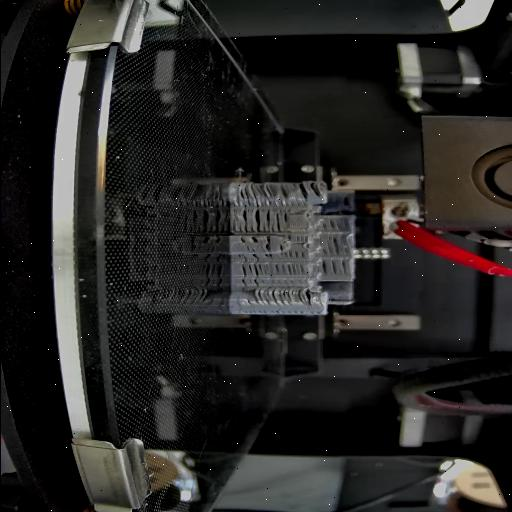cracks: (237, 184, 287, 207), (253, 288, 311, 306), (233, 210, 270, 232), (240, 264, 264, 288), (298, 181, 320, 203), (272, 264, 305, 276), (322, 260, 346, 276), (326, 234, 342, 256), (274, 212, 290, 232), (320, 218, 339, 232), (262, 236, 272, 260), (282, 251, 306, 259), (237, 254, 257, 262), (286, 236, 310, 242), (240, 236, 258, 244), (274, 244, 284, 252)
